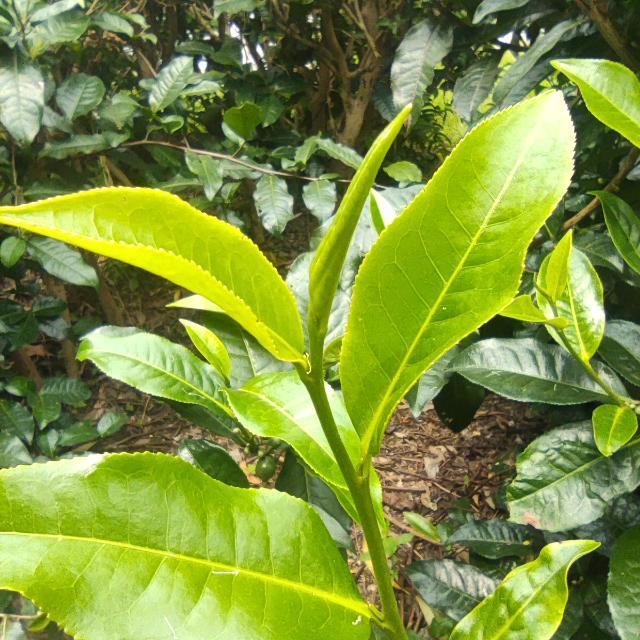Stem: (309, 374, 322, 391)
